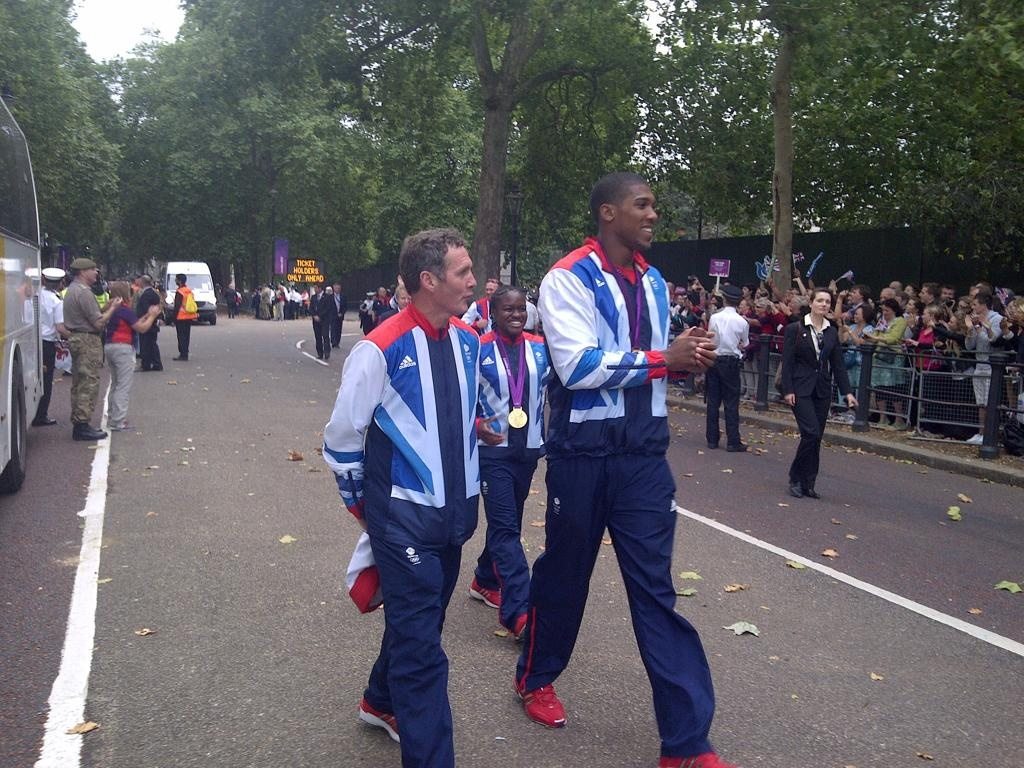human_face: (614, 186, 656, 248), (434, 252, 474, 312), (495, 294, 527, 334), (812, 292, 830, 314), (83, 264, 97, 282), (1006, 300, 1018, 316), (398, 292, 410, 308), (788, 297, 800, 313), (486, 284, 498, 298), (972, 300, 984, 312), (1014, 306, 1024, 320), (921, 308, 931, 322), (919, 287, 929, 301), (969, 290, 979, 302), (958, 302, 968, 314), (942, 289, 952, 301), (883, 305, 893, 317), (889, 283, 899, 295), (948, 316, 956, 330), (854, 309, 862, 323), (852, 288, 860, 302), (903, 288, 913, 298), (880, 292, 888, 304), (757, 300, 765, 312), (740, 284, 748, 296), (846, 294, 854, 306), (706, 306, 714, 318), (905, 300, 913, 310), (738, 301, 746, 311), (676, 296, 682, 304), (380, 288, 386, 296), (334, 284, 340, 292), (710, 298, 716, 306), (682, 297, 688, 305), (174, 276, 180, 282), (314, 284, 318, 292)
